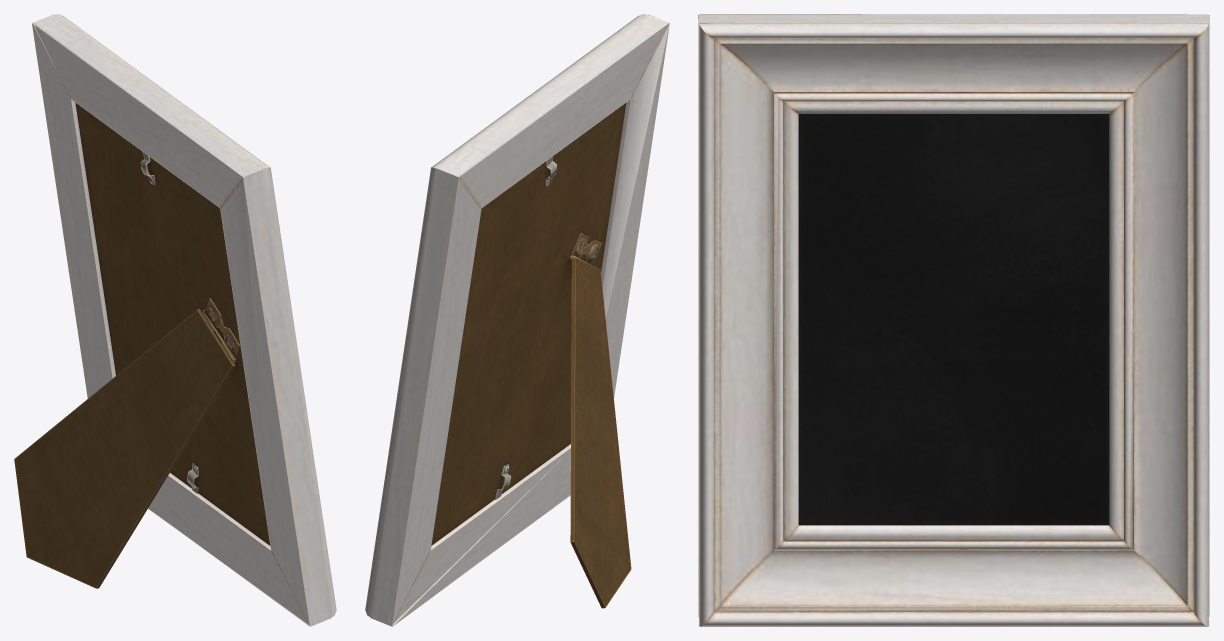
File: standing_picture_frame_02.glb
3 renders of one model, left to right at view 1: azimuth 30°, elevation 25°; view 2: azimuth 150°, elevation 25°; view 3: azimuth 270°, elevation 25°, orthographic. The views are drawn at different scales.
Visible parts, largest first — view 1: standing_picture_frame_02; view 2: standing_picture_frame_02; view 3: standing_picture_frame_02.
Boxes of the visible parts, x1=… form: standing_picture_frame_02: x1=14, y1=14, x2=336, y2=626; standing_picture_frame_02: x1=365, y1=14, x2=669, y2=626; standing_picture_frame_02: x1=698, y1=14, x2=1209, y2=626.
Size of the model in its own units: 0.102 by 0.2662 by 0.2169.
Materials: 3 (3 with a texture image).
